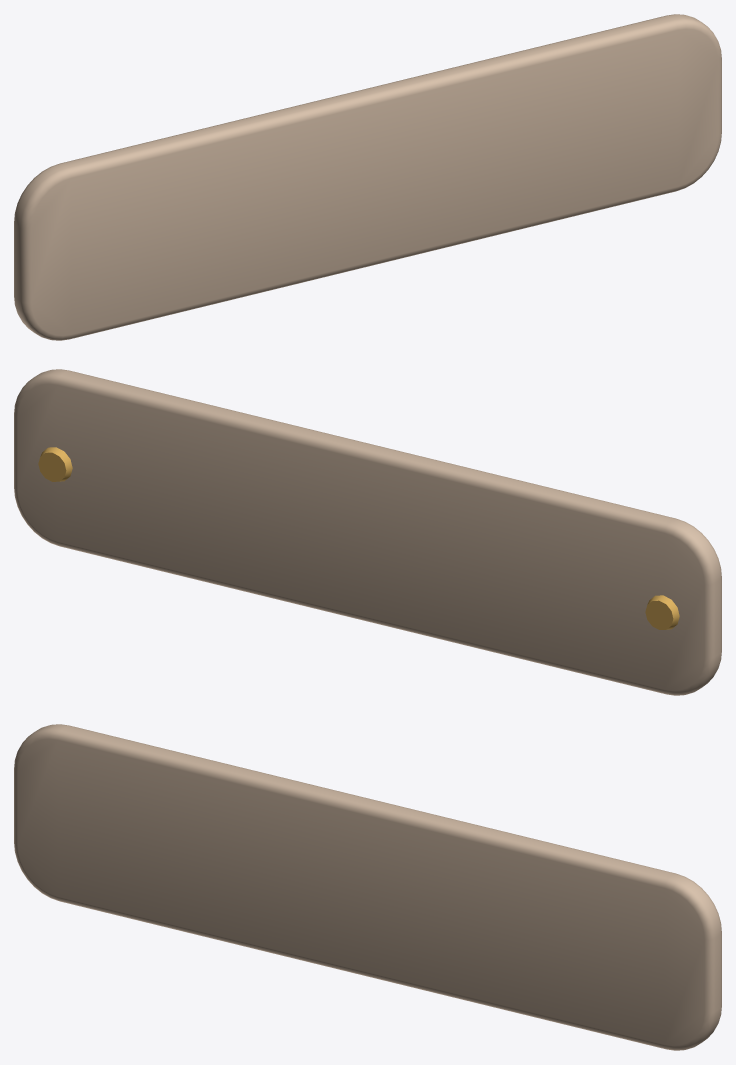
Rendered from Title_Plaque.fbx.
3 renders of one model, top to bottom at view 1: azimuth 30°, elevation 25°; view 2: azimuth 150°, elevation 25°; view 3: azimuth 330°, elevation 25°, orthographic.
Visible parts, largest first — view 1: Title_Plaque; view 2: Title_Plaque; view 3: Title_Plaque.
Part boxes in pixels (box(x1,y1,x2,y2)): Title_Plaque: box(14, 14, 721, 340); Title_Plaque: box(14, 369, 721, 695); Title_Plaque: box(14, 724, 721, 1050).
Bounding box in the file's own units: 0.3 × 0.07 × 0.014.
